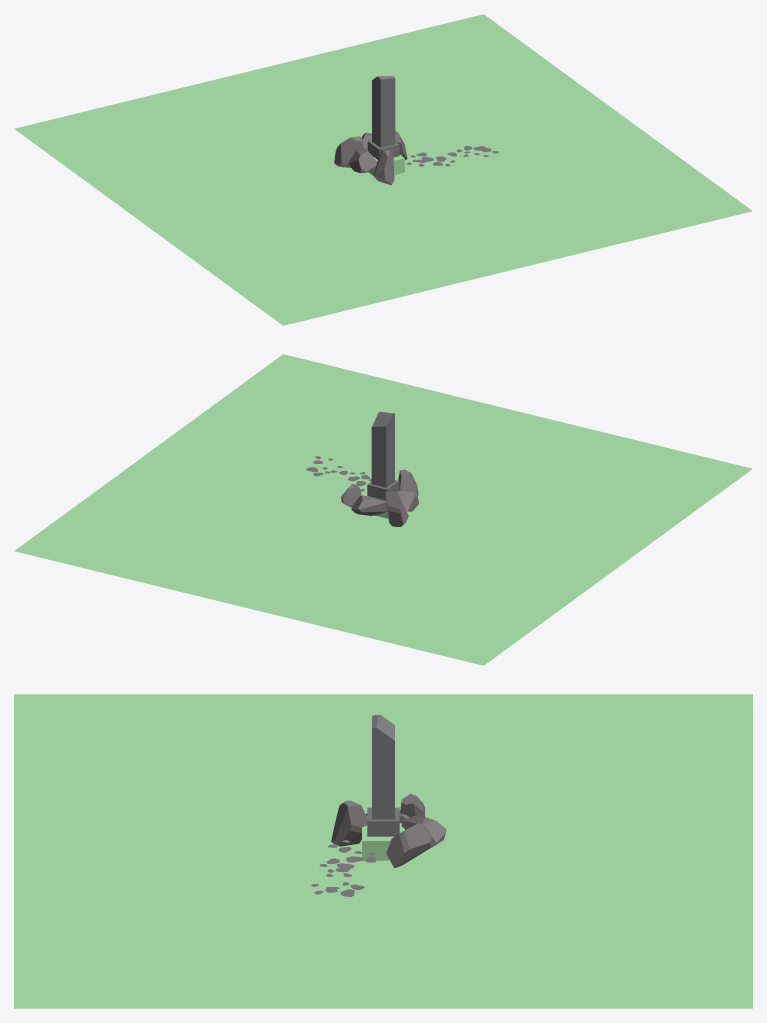
Rendered from MagicPolygonLevel.glb.
The picture shows the model from 3 angles, top to bottom: view 1: azimuth 30°, elevation 25°; view 2: azimuth 150°, elevation 25°; view 3: azimuth 270°, elevation 25°; orthographic projection. The views are drawn at different scales.
Visible parts, largest first — view 1: Plane, Cube.001, Rock.002, Rock.004; view 2: Plane, Cube.001, Rock.004, Rock.001; view 3: Plane, Cube.001, Rock, Rock.002, Cube, Rock.001.
Part boxes in pixels (x1=…): Plane: x1=14, y1=14, x2=752, y2=325; Cube.001: x1=372, y1=76, x2=395, y2=147; Rock.002: x1=373, y1=149, x2=394, y2=184; Rock.004: x1=334, y1=136, x2=363, y2=167; Plane: x1=14, y1=354, x2=752, y2=665; Cube.001: x1=371, y1=412, x2=394, y2=487; Rock.004: x1=385, y1=491, x2=408, y2=526; Rock.001: x1=351, y1=495, x2=387, y2=515; Plane: x1=14, y1=694, x2=752, y2=1008; Cube.001: x1=372, y1=715, x2=394, y2=819; Rock: x1=386, y1=823, x2=435, y2=867; Rock.002: x1=331, y1=800, x2=367, y2=846; Cube: x1=367, y1=807, x2=399, y2=836; Rock.001: x1=401, y1=816, x2=446, y2=845.
Bounding box in the file's own units: 34.45 × 7.73 × 34.19.
